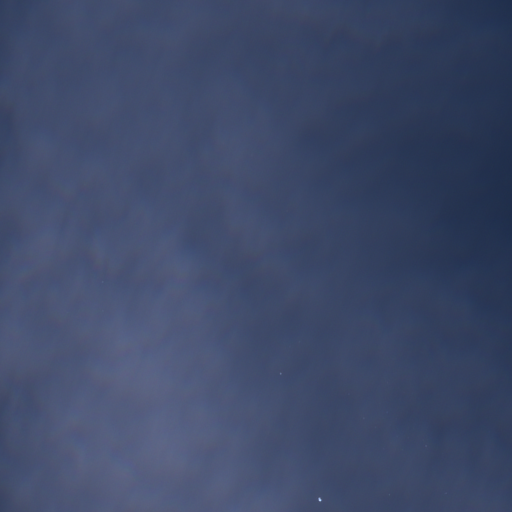Iceberg: (318, 497, 321, 501), (280, 373, 281, 374)
